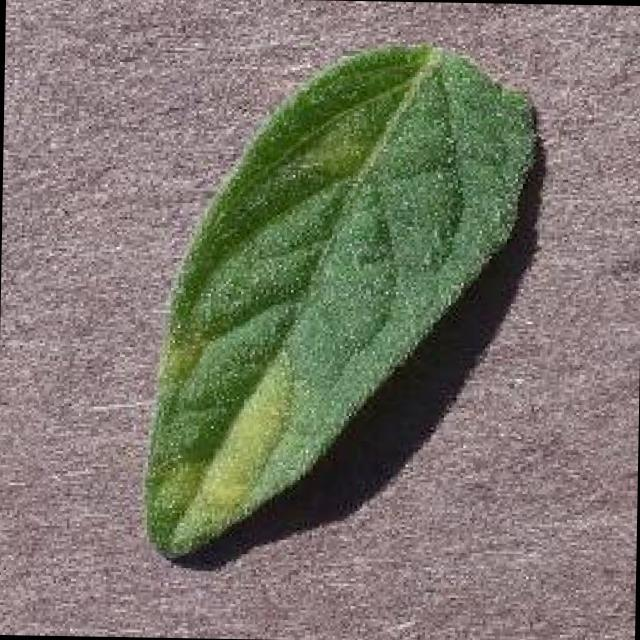Tomato mold leaf: (140, 41, 532, 564)
